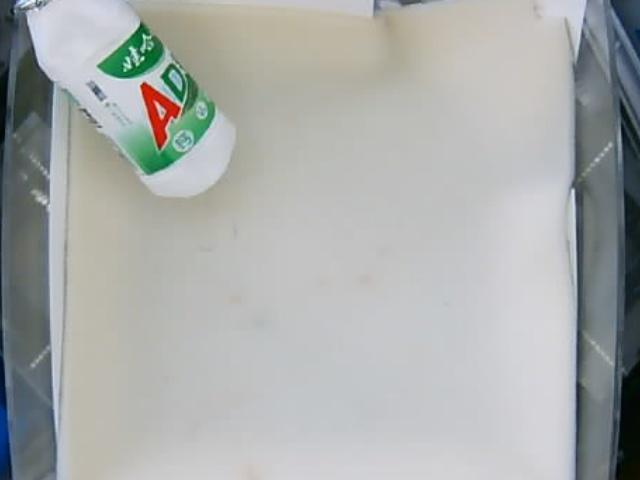Bottle: (17, 1, 239, 201)
